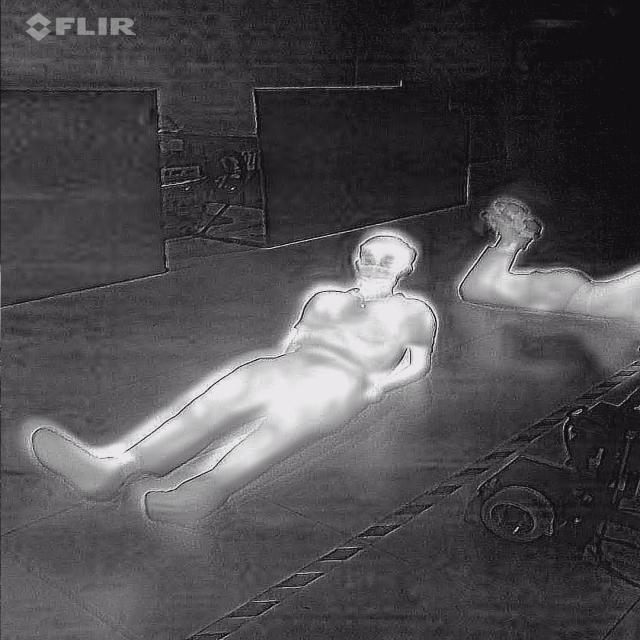Victim: (14, 230, 442, 528), (454, 191, 638, 327)
